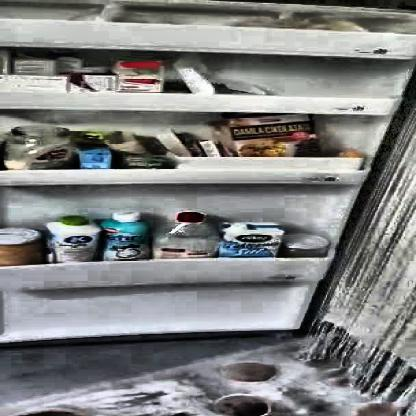heavy_cream: (78, 146, 114, 167)
milk: (49, 216, 102, 260), (222, 222, 280, 256)
